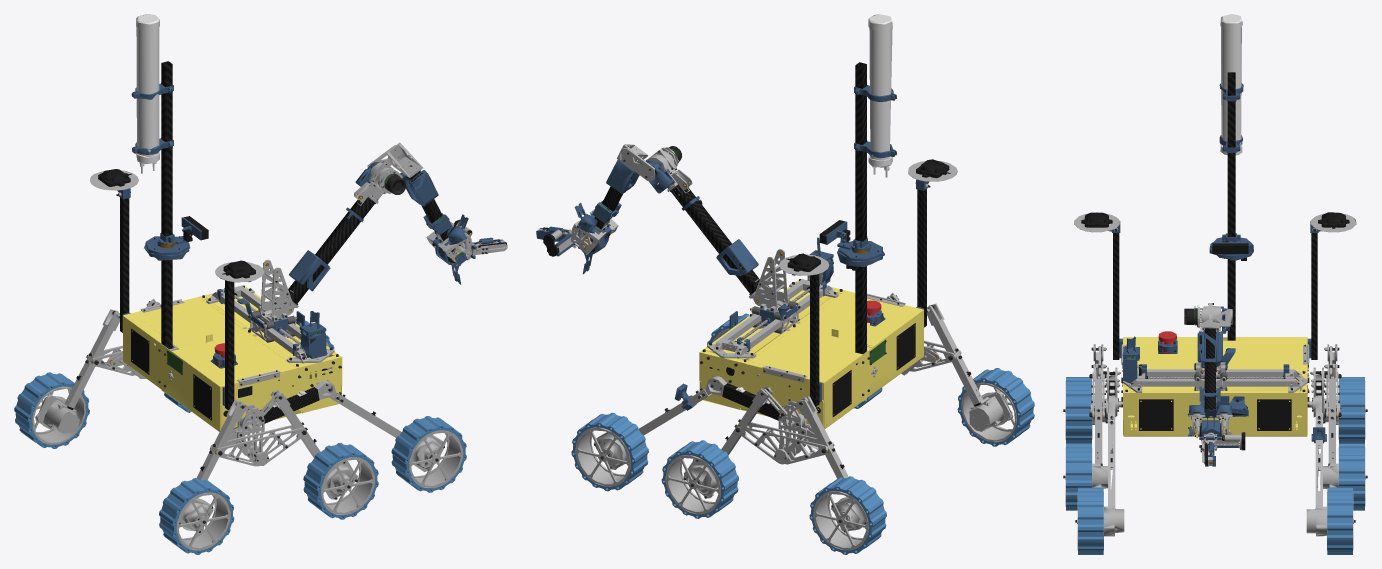
Rendered from rover.glb.
The picture shows the model from 3 angles, left to right: view 1: azimuth 30°, elevation 25°; view 2: azimuth 150°, elevation 25°; view 3: azimuth 270°, elevation 25°; orthographic projection. The views are drawn at different scales.
Visible parts, largest first — view 1: 111438_A;1, 098057_A;1-1_4-20 X 3_4 Bolt.008 (×3), 109257_A;1-MRVR26.RA.SEG.CF_BC_REDESIGN, 109545_A;1-MRVR26.RA.SEG.CF_CDE_26, 098152_A;1-MRV25.MOB.SUSP.MCHAS_SHAFT, 098057_A;1-1_4-20 X 3_4 Bolt.010, 117037_A;1, 6338K411_A;1.001, 098121_A;1-MRVR26.MOB.91251A242, 098116_A;1-MRVR26.MOB.SUSP.BACK_COUPLER_JOINT, 098077_A;1-MRVR26.MOB.SUSP.FRONT_COUPLER_JOINT; view 2: 111438_A;1, 098057_A;1-1_4-20 X 3_4 Bolt.010 (×3), 109257_A;1-MRVR26.RA.SEG.CF_BC_REDESIGN, 116999_A;1, 109545_A;1-MRVR26.RA.SEG.CF_CDE_26, 098057_A;1-1_4-20 X 3_4 Bolt.008, 098116_A;1-MRVR26.MOB.SUSP.BACK_COUPLER_JOINT, 6338K411_A;1.001, 117100_A;1, 117037_A;1, 117080_A;1; view 3: 111438_A;1, 098057_A;1-1_4-20 X 3_4 Bolt.010 (×3), 098057_A;1-1_4-20 X 3_4 Bolt.008 (×3), 109545_A;1-MRVR26.RA.SEG.CF_CDE_26, 116999_A;1, 098152_A;1-MRV25.MOB.SUSP.MCHAS_SHAFT, 098077_A;1-MRVR26.MOB.SUSP.FRONT_COUPLER_JOINT, 117080_A;1, 109257_A;1-MRVR26.RA.SEG.CF_BC_REDESIGN, 6338K411_A;1.001, 112619_A;1-MRVR26.RA.DE.CAMERA_MOUNT.002, 112619_A;1-MRVR26.RA.DE.CAMERA_MOUNT.001.
Boxes of the visible parts, x1,y1,x2,y2 form: 111438_A;1: (90, 14, 342, 431); 098057_A;1-1_4-20 X 3_4 Bolt.008 (×3): (159, 416, 466, 554); 109257_A;1-MRVR26.RA.SEG.CF_BC_REDESIGN: (280, 161, 406, 310); 109545_A;1-MRVR26.RA.SEG.CF_CDE_26: (367, 142, 472, 265); 098152_A;1-MRV25.MOB.SUSP.MCHAS_SHAFT: (224, 380, 444, 471); 098057_A;1-1_4-20 X 3_4 Bolt.010: (14, 372, 89, 448); 117037_A;1: (35, 309, 119, 433); 6338K411_A;1.001: (237, 259, 297, 342); 098121_A;1-MRVR26.MOB.91251A242: (209, 425, 307, 466); 098116_A;1-MRVR26.MOB.SUSP.BACK_COUPLER_JOINT: (179, 399, 246, 532); 098077_A;1-MRVR26.MOB.SUSP.FRONT_COUPLER_JOINT: (270, 389, 357, 499); 111438_A;1: (699, 14, 957, 428); 098057_A;1-1_4-20 X 3_4 Bolt.010 (×3): (571, 412, 886, 554); 109257_A;1-MRVR26.RA.SEG.CF_BC_REDESIGN: (645, 146, 765, 300); 116999_A;1: (594, 376, 819, 469); 109545_A;1-MRVR26.RA.SEG.CF_CDE_26: (571, 144, 656, 253); 098057_A;1-1_4-20 X 3_4 Bolt.008: (957, 368, 1034, 446); 098116_A;1-MRVR26.MOB.SUSP.BACK_COUPLER_JOINT: (927, 303, 1013, 431); 6338K411_A;1.001: (750, 249, 800, 333); 117100_A;1: (735, 422, 834, 464); 117037_A;1: (797, 396, 865, 532); 117080_A;1: (683, 386, 772, 498); 111438_A;1: (1074, 14, 1356, 436); 098057_A;1-1_4-20 X 3_4 Bolt.010 (×3): (1327, 377, 1367, 554); 098057_A;1-1_4-20 X 3_4 Bolt.008 (×3): (1063, 377, 1103, 554); 109545_A;1-MRVR26.RA.SEG.CF_CDE_26: (1187, 309, 1233, 436); 116999_A;1: (1306, 367, 1335, 536); 098152_A;1-MRV25.MOB.SUSP.MCHAS_SHAFT: (1098, 367, 1124, 536); 098077_A;1-MRVR26.MOB.SUSP.FRONT_COUPLER_JOINT: (1091, 363, 1110, 488); 117080_A;1: (1320, 364, 1339, 488); 109257_A;1-MRVR26.RA.SEG.CF_BC_REDESIGN: (1184, 303, 1229, 375); 6338K411_A;1.001: (1194, 320, 1235, 390); 112619_A;1-MRVR26.RA.DE.CAMERA_MOUNT.002: (1199, 432, 1245, 464); 112619_A;1-MRVR26.RA.DE.CAMERA_MOUNT.001: (1195, 409, 1229, 466).
Size of the model in its own units: 153 by 166 by 105.
113 materials, 5 textured.
